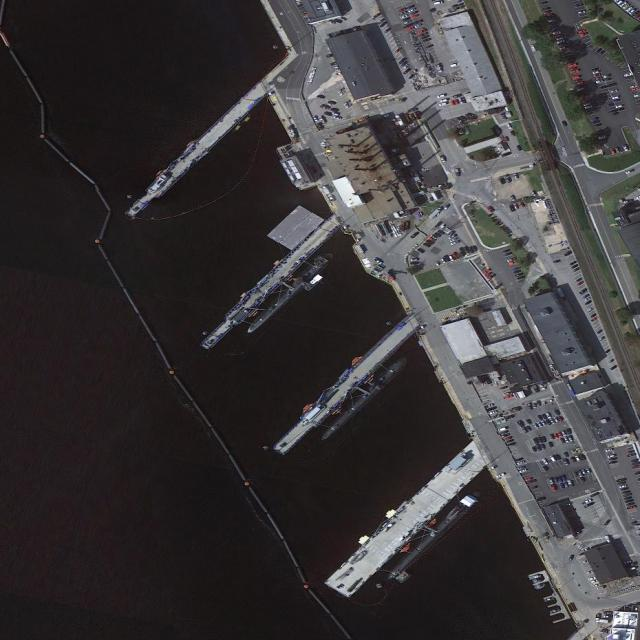Dock: (67, 82, 266, 269), (325, 444, 487, 601), (270, 319, 416, 458), (198, 215, 341, 352)
Submarine: (385, 492, 476, 580), (319, 355, 407, 440), (246, 253, 331, 334)
